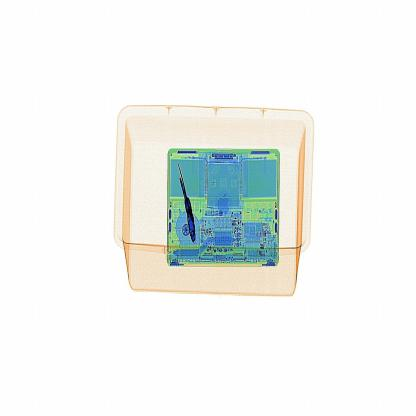wrench: (176, 158, 209, 258)
